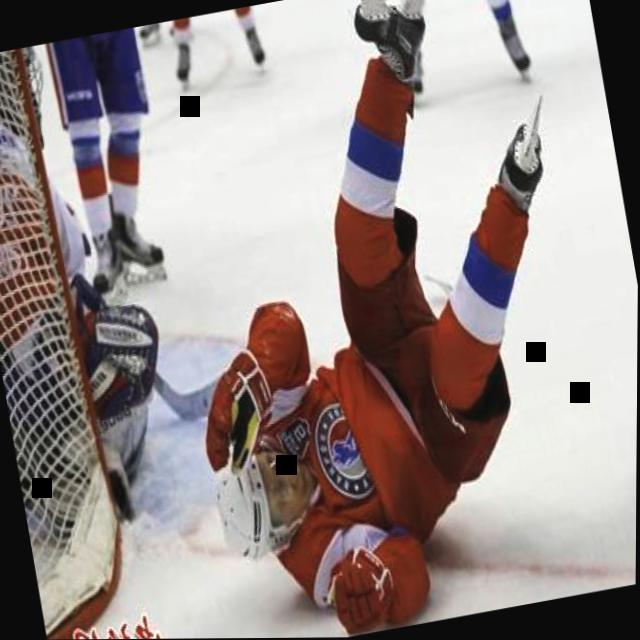Fall-Detected: (119, 0, 640, 639)
